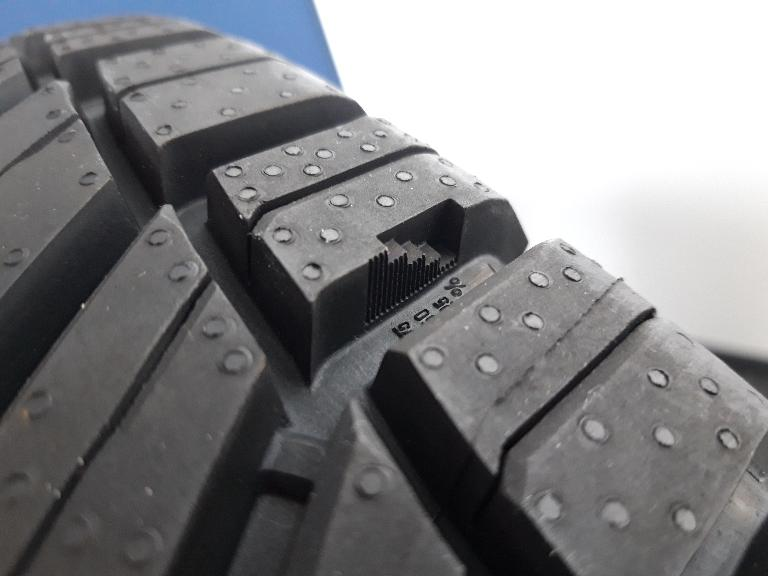temoin:100: (360, 196, 469, 329)
